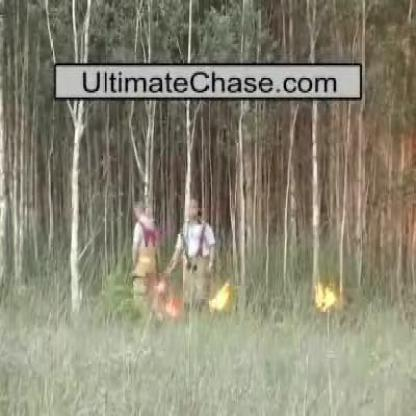foggia-v2-map80-epoch100 - v1 4323: (314, 281, 336, 314), (208, 280, 230, 313)
